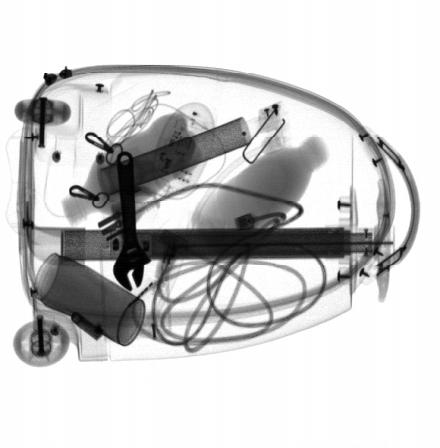Wrench: (113, 151, 152, 292)
